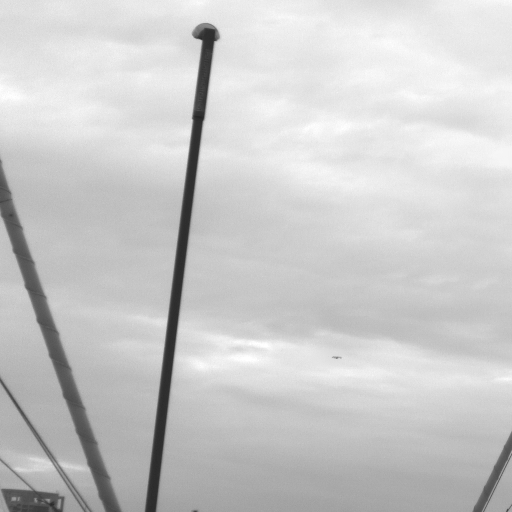uav: (331, 354, 342, 360)
